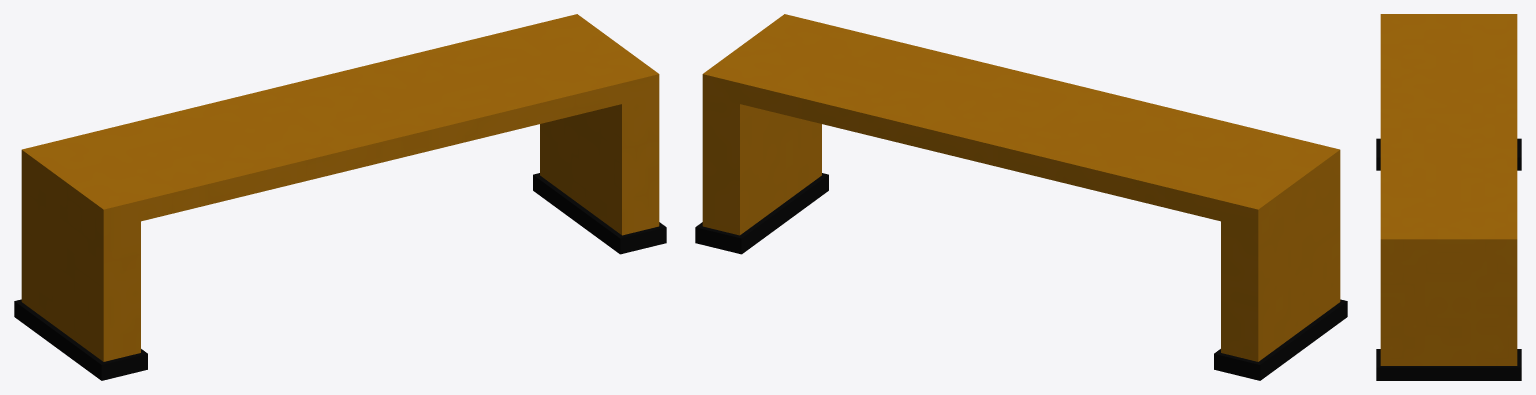
The model's file is Bench_1.fbx.
3 renders of one model, left to right at view 1: azimuth 30°, elevation 25°; view 2: azimuth 150°, elevation 25°; view 3: azimuth 270°, elevation 25°, orthographic. The views are drawn at different scales.
Visible parts, largest first — view 1: Bench 1; view 2: Bench 1; view 3: Bench 1.
Part boxes in pixels (<box>): Bench 1: <box>14,14,666,380</box>; Bench 1: <box>695,14,1347,380</box>; Bench 1: <box>1376,14,1521,380</box>.
Bounding box in the file's own units: 203 × 57.88 × 54.42.
